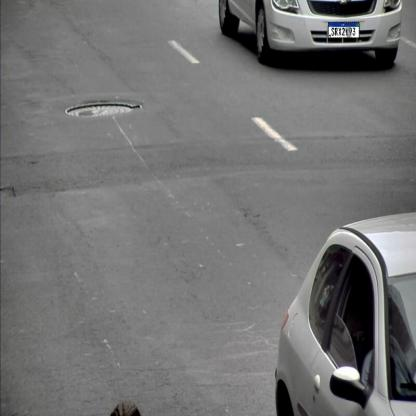PlacaM: (328, 22, 359, 38)
